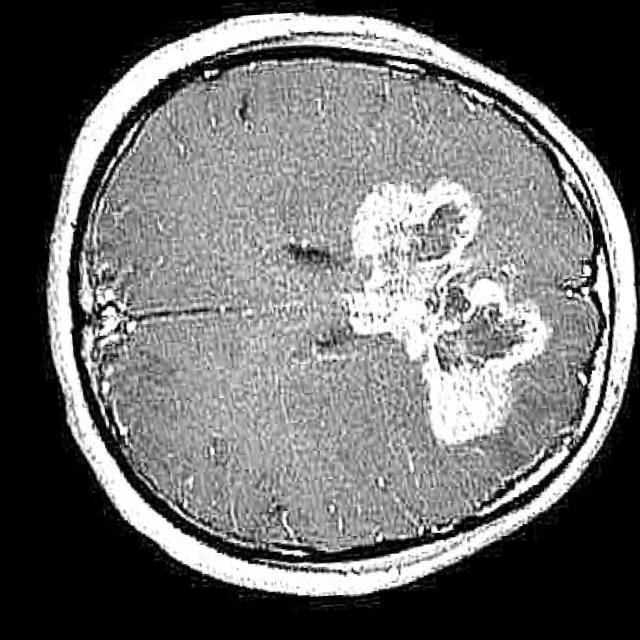Tumor: (337, 181, 540, 449)
